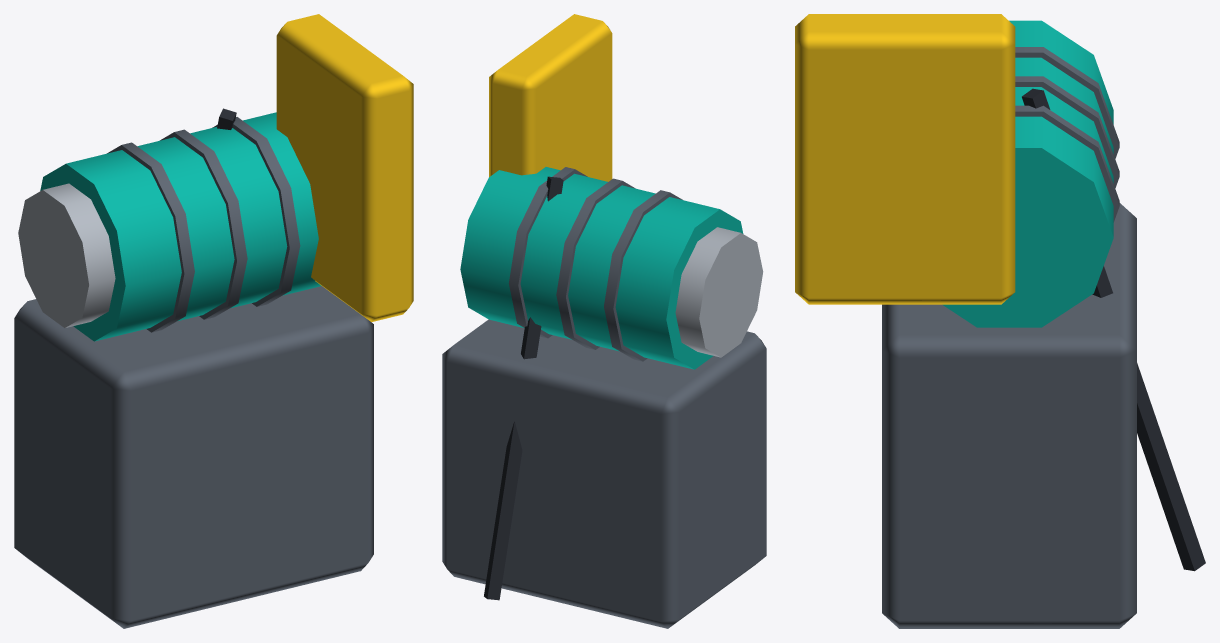
Rendered from station_transport_ausstattung_2_1.glb.
3 renders of one model, left to right at view 1: azimuth 30°, elevation 25°; view 2: azimuth 150°, elevation 25°; view 3: azimuth 270°, elevation 25°, orthographic. The views are drawn at different scales.
Visible parts, largest first — view 1: station_transport_ausstattung_2_1; view 2: station_transport_ausstattung_2_1; view 3: station_transport_ausstattung_2_1.
Boxes of the visible parts, box(x1,y1,x2,y2) form: station_transport_ausstattung_2_1: box(14, 14, 413, 628); station_transport_ausstattung_2_1: box(442, 14, 766, 628); station_transport_ausstattung_2_1: box(795, 14, 1205, 628).
Bounding box in the file's own units: 0.31 × 0.57 × 0.3545.
